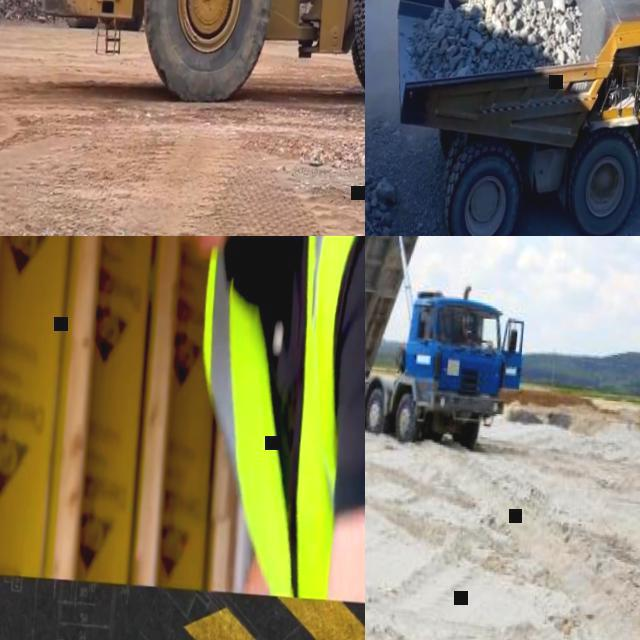machinery: (376, 0, 640, 236), (30, 0, 365, 129), (365, 236, 543, 453)
person: (0, 236, 365, 609)
vest: (185, 236, 365, 610)
